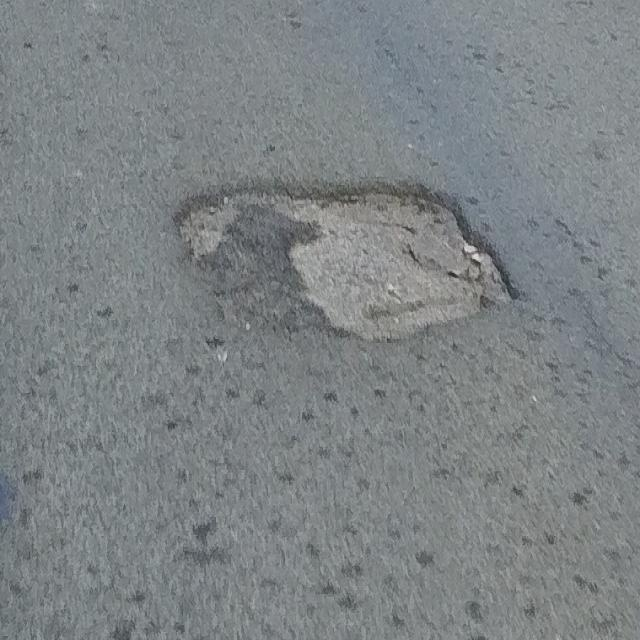pothole: (143, 130, 550, 397)
